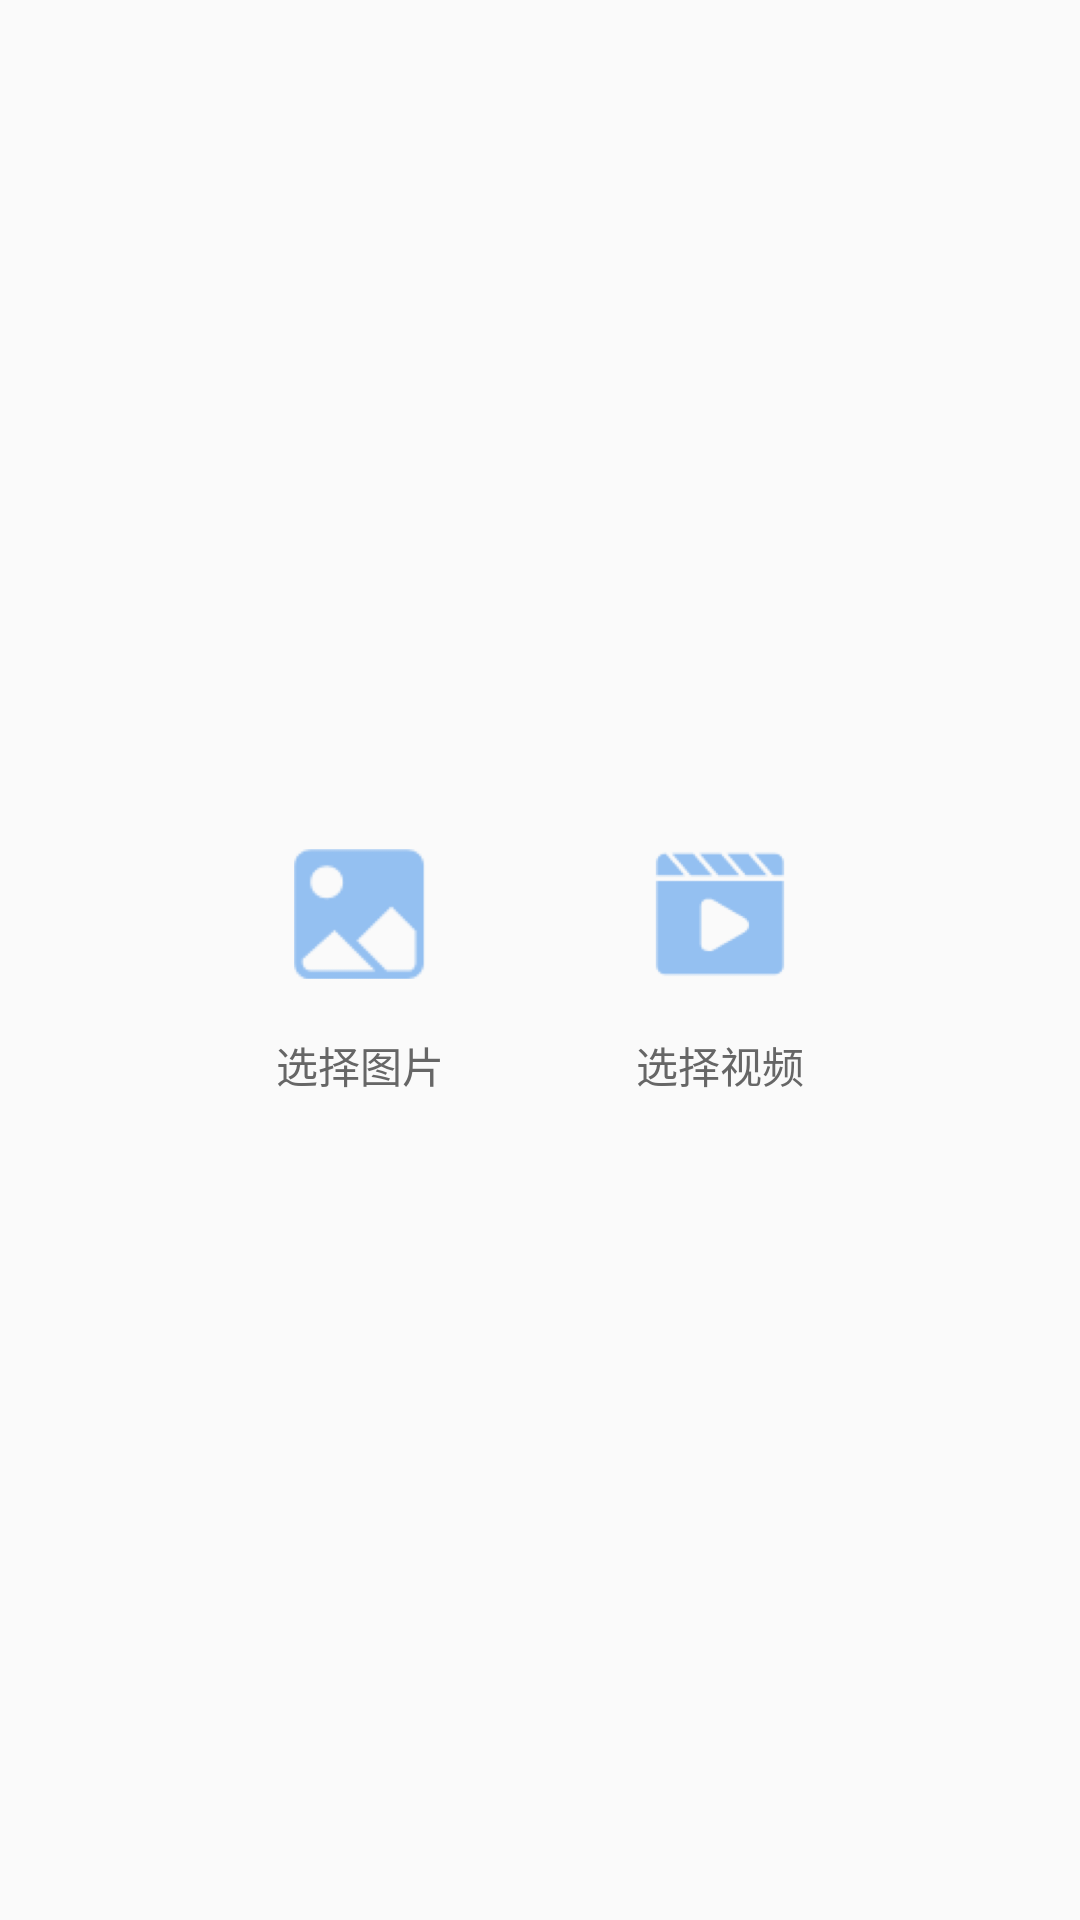

Icon bounding boxes for this 1080w x 1920h phone screenshot, format (x1, y1, x2, y2):
video: (656, 853, 784, 975)
